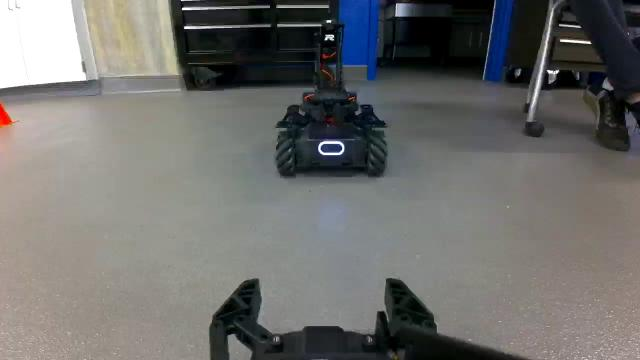robot: (268, 17, 401, 179)
